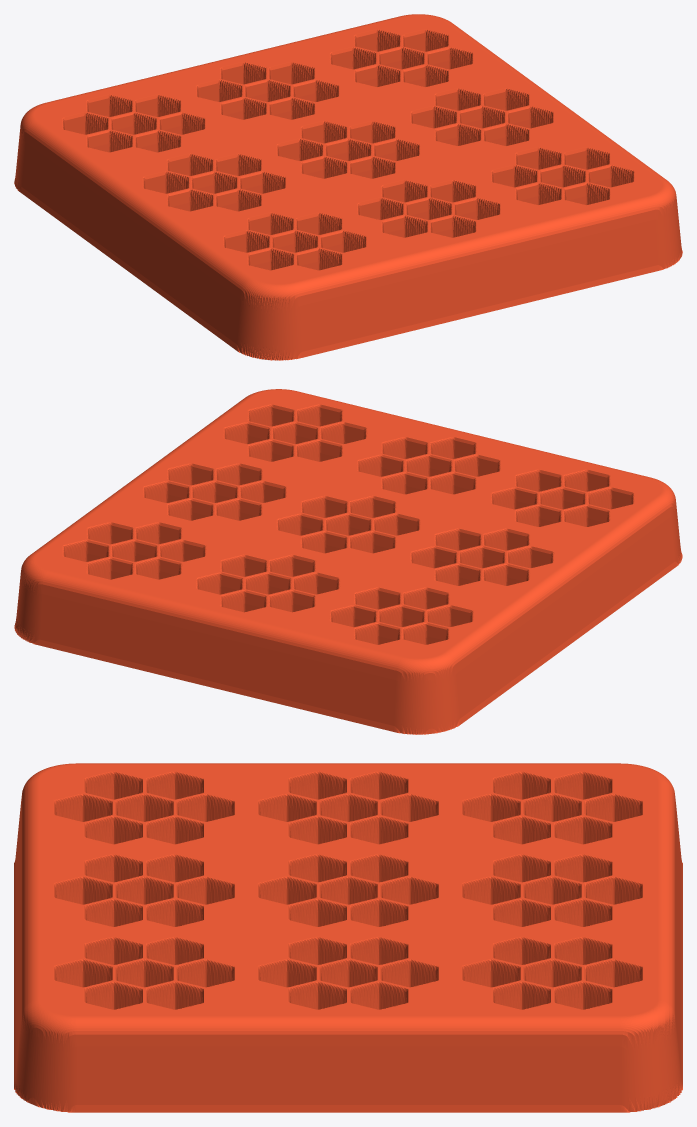
File: mold.glb
3 views of the same model, one above another, from view 1: azimuth 30°, elevation 25°; view 2: azimuth 150°, elevation 25°; view 3: azimuth 270°, elevation 25° (orthographic). The views are drawn at different scales.
Visible parts, largest first — view 1: geometry_0; view 2: geometry_0; view 3: geometry_0.
Part boxes in pixels (box(x1,y1,x2,y2)): geometry_0: box(14, 14, 682, 360); geometry_0: box(14, 389, 682, 734); geometry_0: box(14, 763, 682, 1112).
Bounding box in the file's own units: 0.0928 × 0.0136 × 0.0964.
